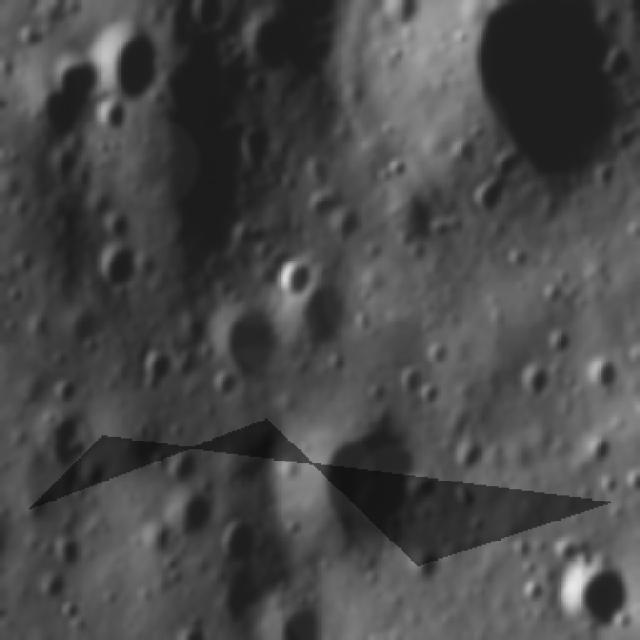crater: (458, 0, 632, 214), (300, 408, 442, 560), (245, 0, 348, 77), (86, 18, 168, 107), (35, 44, 99, 156), (555, 548, 636, 632), (294, 276, 361, 364), (215, 302, 279, 380), (211, 571, 275, 632), (35, 411, 91, 477), (217, 512, 274, 572), (170, 479, 225, 539), (100, 244, 146, 299), (274, 598, 331, 640), (134, 347, 178, 398), (577, 356, 621, 402), (142, 522, 186, 566), (203, 364, 245, 410), (187, 0, 231, 43), (599, 38, 632, 93), (276, 256, 318, 298), (514, 363, 555, 406), (388, 363, 428, 403), (326, 208, 365, 249), (448, 437, 490, 474), (97, 101, 131, 145), (376, 0, 421, 32), (44, 377, 85, 411), (35, 572, 68, 612), (584, 429, 616, 466), (54, 536, 85, 572), (422, 338, 452, 372), (104, 212, 134, 246), (174, 618, 220, 640), (549, 327, 576, 356), (519, 579, 547, 603)
